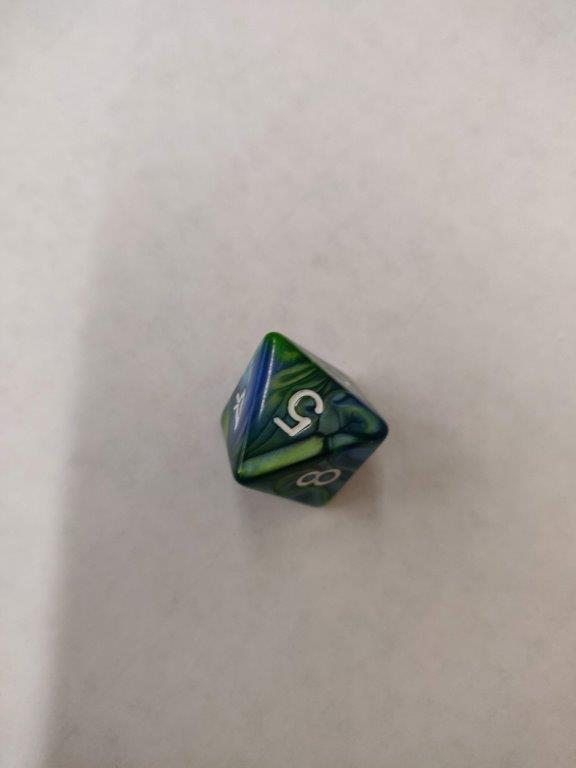d8-5: (219, 332, 392, 510)
